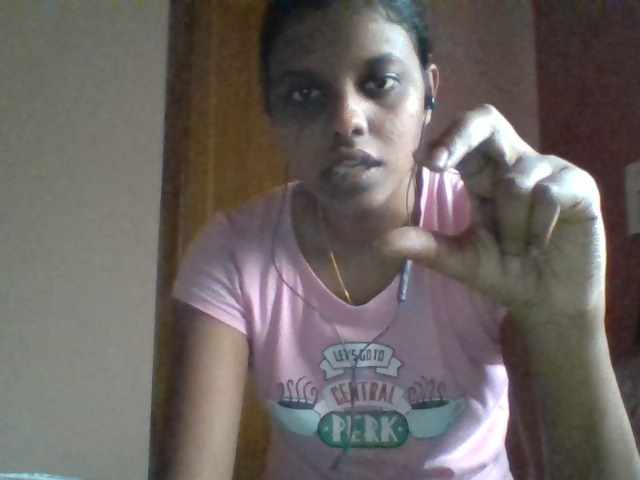No: (345, 88, 621, 315)
